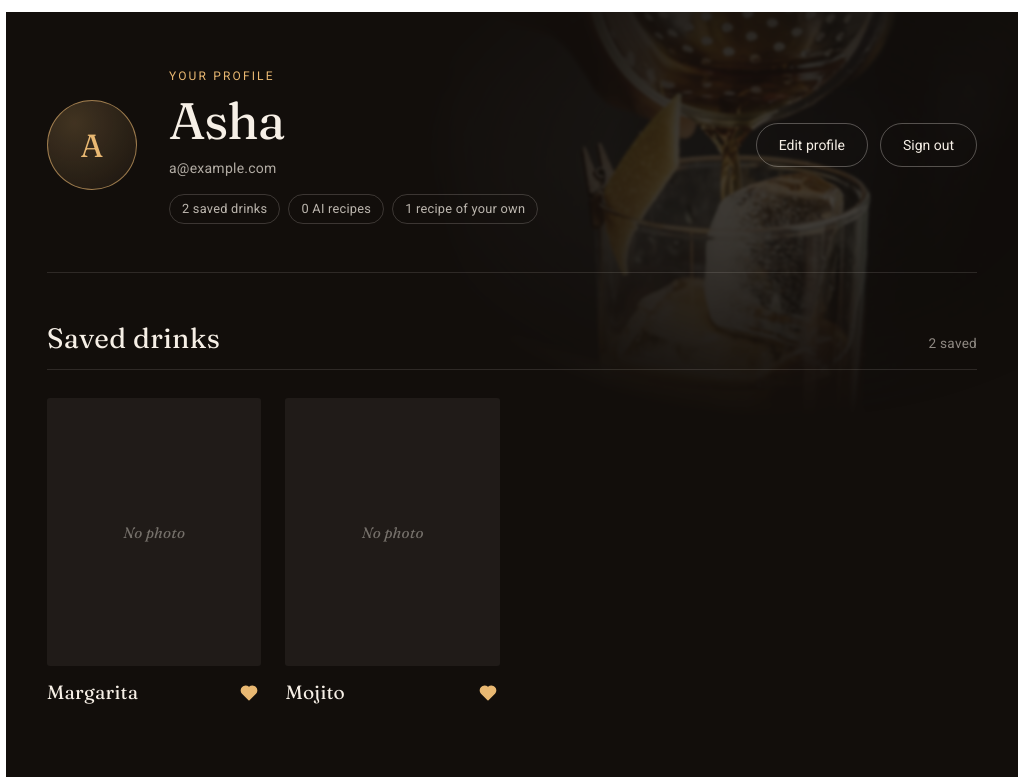
Test: PersonalComponent › Edit profile › cancels without saving
This screenshot has width=1024, height=777.
Click the button "Edit profile": (812,145) x1=756 y1=123 x2=868 y2=167
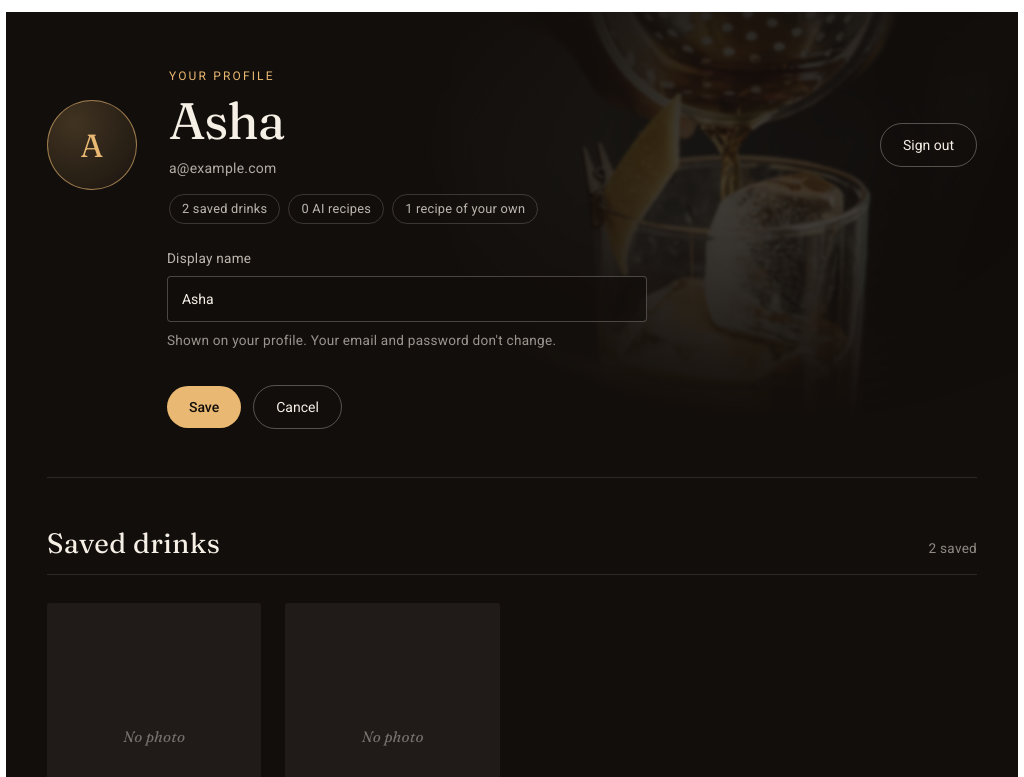
Click the button "Cancel": (298,406) x1=253 y1=384 x2=342 y2=428
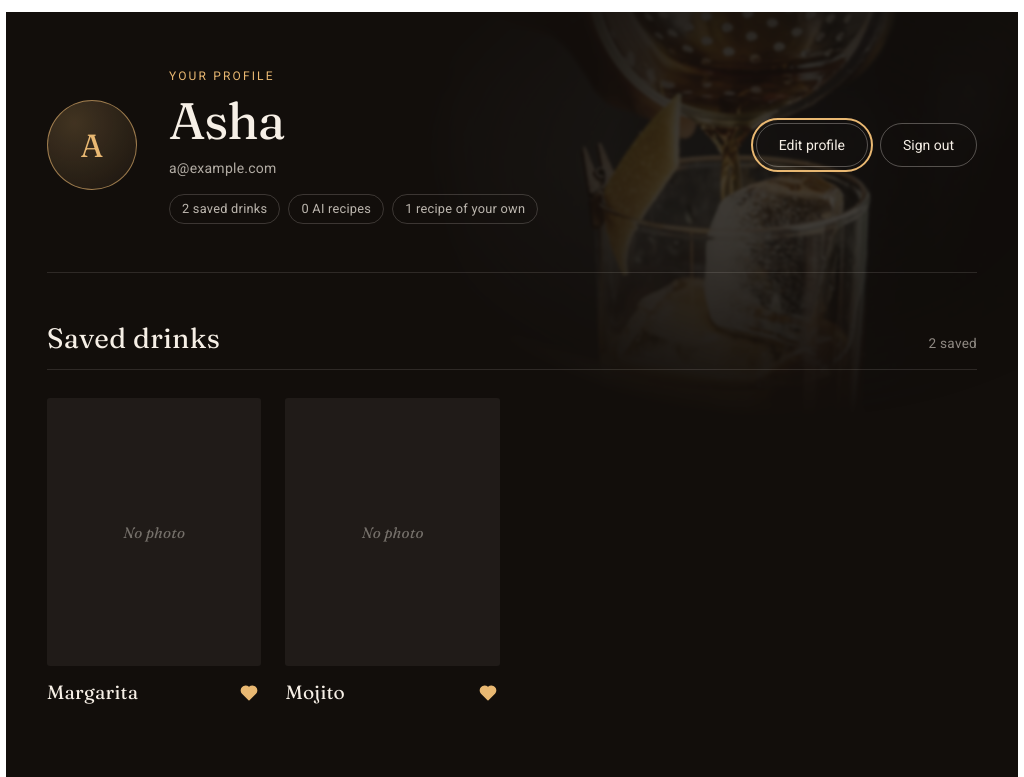
Result: the form with class "name-form" is gone
